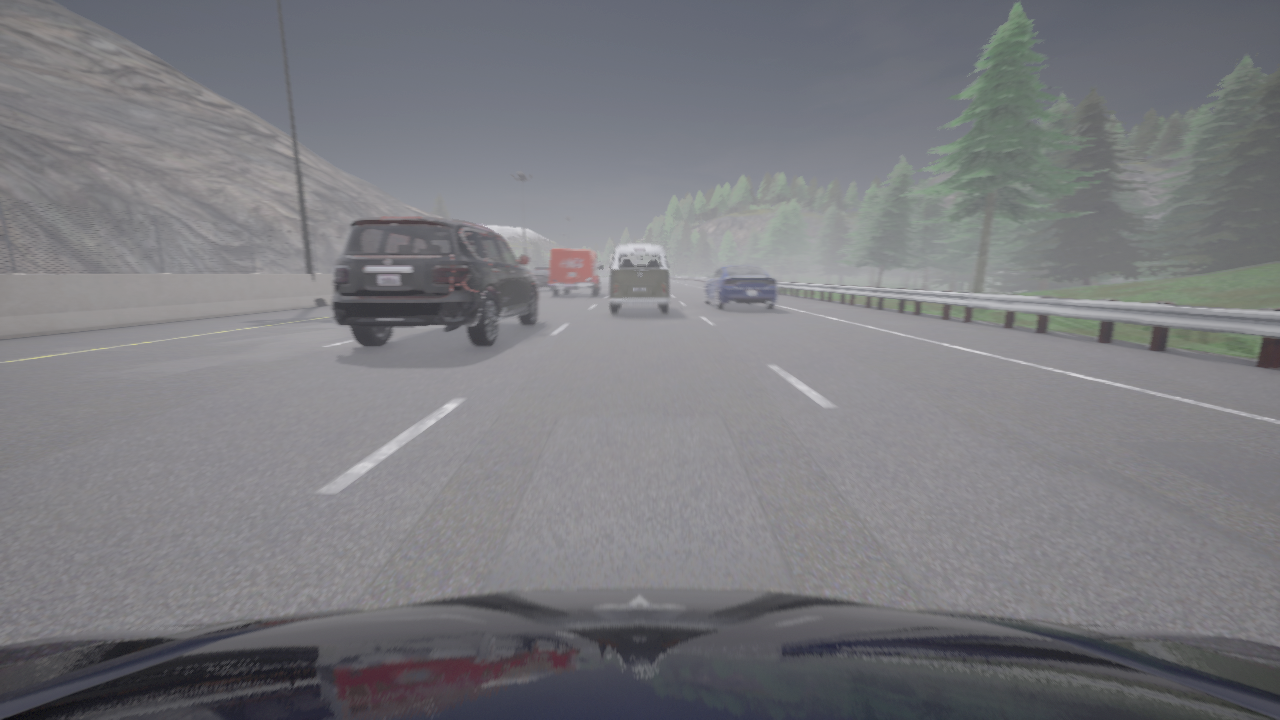cyclist: (0, 588, 1279, 719), (332, 217, 538, 346), (610, 244, 670, 313), (704, 264, 777, 309), (549, 249, 602, 295), (531, 267, 551, 290)
